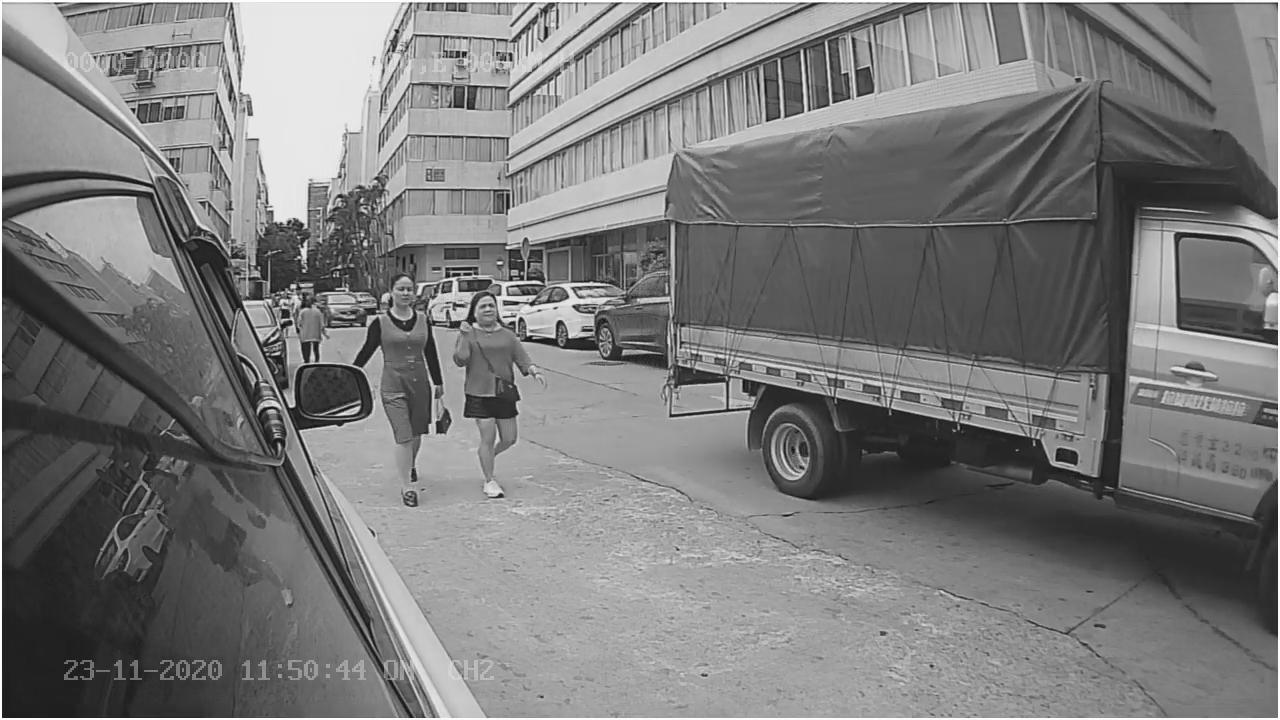person: (453, 273, 547, 498), (358, 269, 442, 512)
